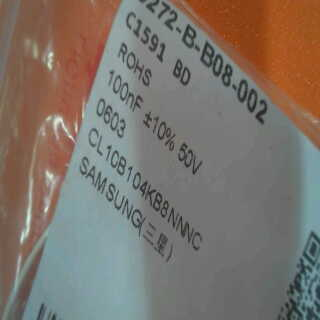100nF: (97, 68, 145, 113)
